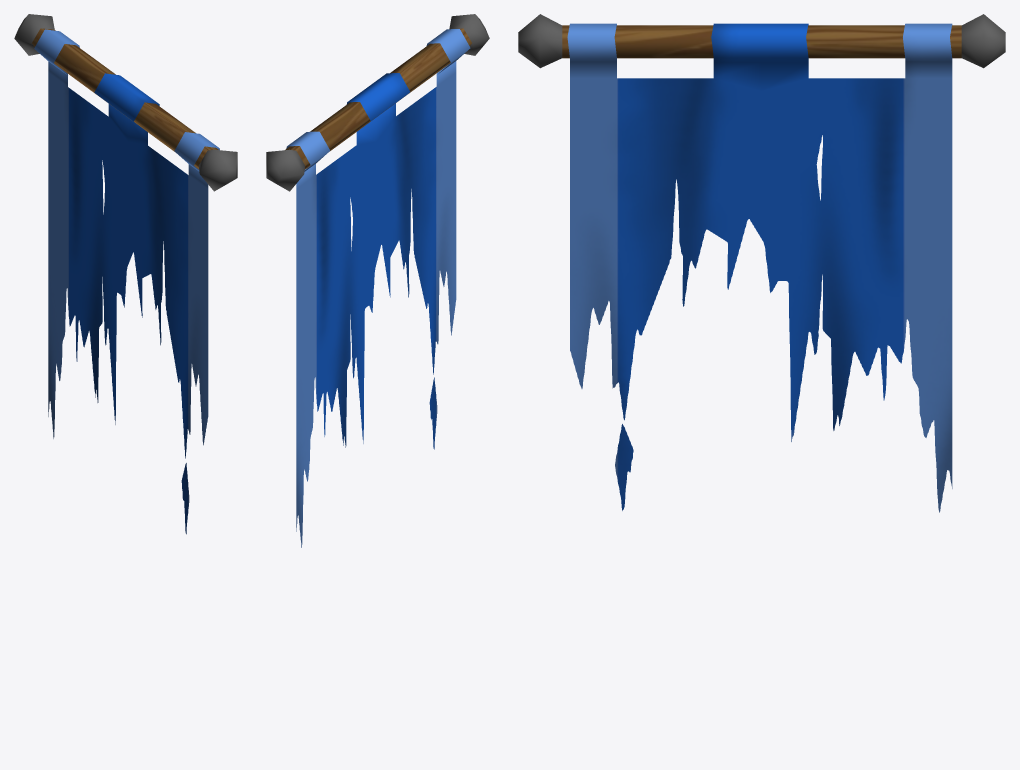
The model's file is Flag3.FBX.
3 views of the same model, side by side, from view 1: azimuth 30°, elevation 25°; view 2: azimuth 150°, elevation 25°; view 3: azimuth 270°, elevation 25° (orthographic). The views are drawn at different scales.
Visible parts, largest first — view 1: Standard_Flag_004; view 2: Standard_Flag_004; view 3: Standard_Flag_004.
Part boxes in pixels (bbox=[...]): Standard_Flag_004: bbox=[14, 14, 237, 534]; Standard_Flag_004: bbox=[266, 14, 489, 547]; Standard_Flag_004: bbox=[518, 14, 1005, 512].
Size of the model in its own units: 2.39 by 37.06 by 22.18.
